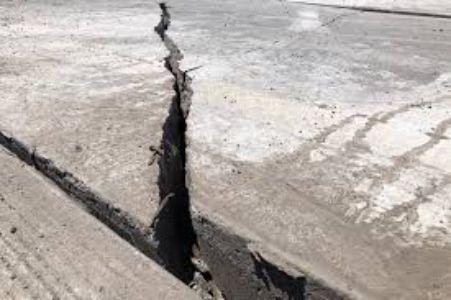pothole: (3, 126, 360, 300), (144, 0, 205, 271)
